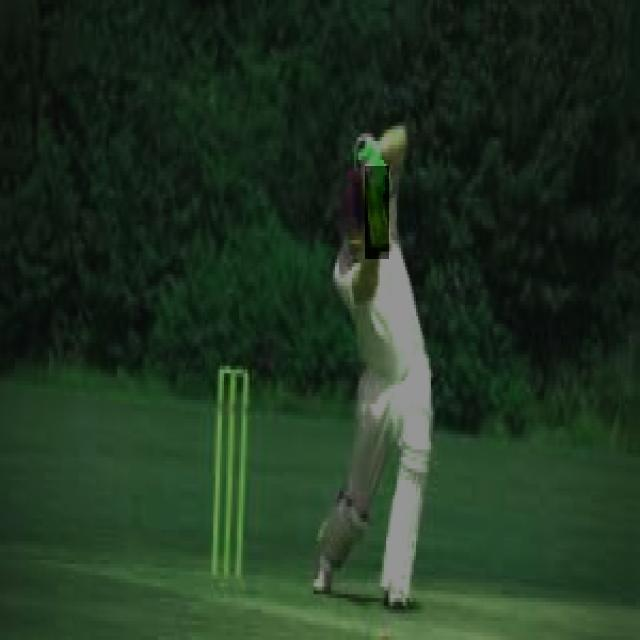bat: (366, 168, 391, 260)
toe: (360, 238, 397, 262)
